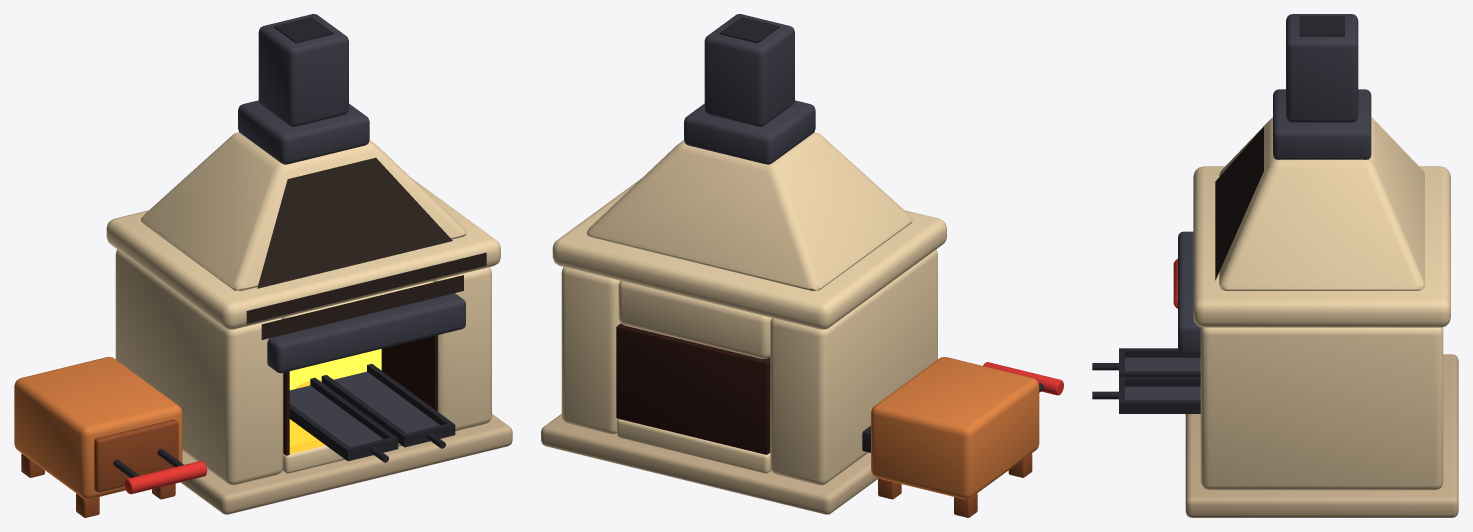
File: Forge.fbx
The picture shows the model from 3 angles, left to right: view 1: azimuth 30°, elevation 25°; view 2: azimuth 150°, elevation 25°; view 3: azimuth 270°, elevation 25°; orthographic projection. The views are drawn at different scales.
Visible parts, largest first — view 1: Wall, Hood, SootHood, Bellows, Course, Plinth, Chimney, Lintel, Wall.001, Collar, BellowsEnd, SootCrown (+16 smaller); view 2: Hood, Wall, Bellows, Course, Back, Plinth, Wall.001, Chimney, Crown, Collar, Hearth, Flue (+1 smaller); view 3: Wall.001, Hood, Course, Plinth, Chimney, Collar, SootHood, Lintel, Tray1, Tray2, Tray2Rail.001, Flue (+3 smaller).
Boxes of the visible parts, x1,y1,x2,y2 form: Wall: (115,249,283,485); Hood: (141,132,466,291); SootHood: (257,157,452,288); Bellows: (14,357,182,499); Course: (106,178,500,329); Plinth: (180,414,512,514); Chimney: (258,14,348,126); Lintel: (267,293,465,373); Wall.001: (433,267,491,431); Collar: (238,100,369,164); BellowsEnd: (94,419,178,492); SootCrown: (261,275,463,339); Hood: (587,132,912,291); Wall: (770,249,937,485); Bellows: (871,357,1039,499); Course: (552,178,946,329); Back: (616,323,770,454); Plinth: (541,414,877,514); Wall.001: (561,267,620,434); Chimney: (704,14,794,126); Crown: (618,281,771,358); Collar: (684,100,815,164); Hearth: (617,419,770,473); Flue: (720,17,779,43); Wall.001: (1200,327,1443,490); Hood: (1219,117,1424,290); Course: (1193,166,1450,327); Plinth: (1185,354,1458,517); Chimney: (1286,14,1358,122); Collar: (1273,89,1371,159); SootHood: (1215,126,1263,280); Lintel: (1178,231,1200,355); Tray1: (1125,357,1200,371); Tray2: (1125,386,1200,400); Tray2Rail.001: (1125,400,1200,413); Flue: (1299,16,1344,36).
Bounding box in the file's own units: 6.35 × 6.12 × 4.83.
Materials: 11 (1 with a texture image).
